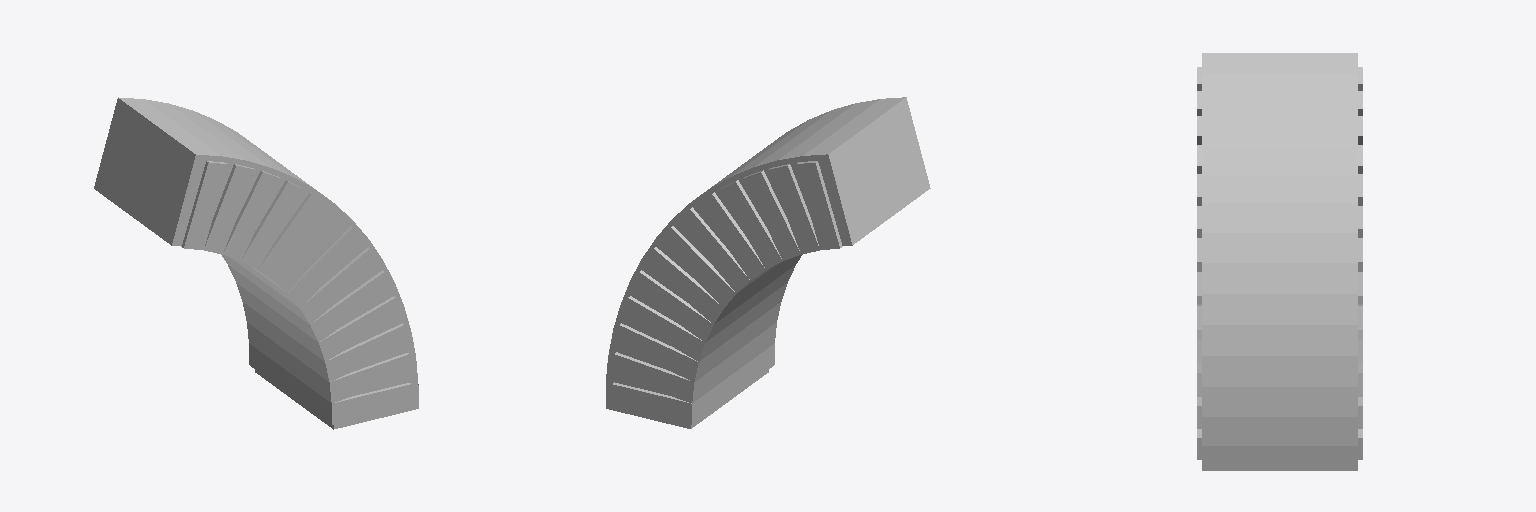
The model's file is lime_mortar_orange_clay_brick_round_arch_3.obj.
3 renders of one model, left to right at view 1: azimuth 30°, elevation 25°; view 2: azimuth 150°, elevation 25°; view 3: azimuth 270°, elevation 25°, orthographic.
Parts seen in each view (by area): view 1: cube.108, cube.081, cube.082, cube.083, cube.084, cube.085, cube.086, cube.087, cube.088, cube.093, cube.092, cube.090 (+7 smaller); view 2: cube.108, cube.081, cube.082, cube.083, cube.084, cube.085, cube.086, cube.087, cube.088, cube.093, cube.091, cube.089 (+7 smaller); view 3: cube.097, cube.098, cube.099, cube.100, cube.096, cube.101, cube.102, cube.095, cube.103, cube.104, cube.105, cube.094 (+3 smaller).
Part boxes in pixels (x1,y1,x2,y2): cube.108: (94,97,221,246); cube.081: (249,343,411,424); cube.082: (247,322,411,403); cube.083: (243,302,408,381); cube.084: (236,283,401,361); cube.085: (228,265,392,342); cube.086: (221,247,380,324); cube.087: (230,226,364,307); cube.088: (250,208,346,293); cube.093: (182,161,227,249); cube.092: (204,164,254,254); cube.090: (241,180,304,269); cube.108: (803,97,930,245); cube.081: (612,343,774,424); cube.082: (612,322,776,403); cube.083: (615,302,780,381); cube.084: (622,283,787,361); cube.085: (631,265,795,342); cube.086: (643,247,802,324); cube.087: (659,226,793,307); cube.088: (676,207,773,293); cube.093: (796,161,842,249); cube.091: (743,170,800,260); cube.089: (697,192,765,280); cube.097: (1202,356,1357,386); cube.098: (1202,325,1357,355); cube.099: (1202,294,1357,324); cube.100: (1202,263,1357,293); cube.096: (1202,387,1357,416); cube.101: (1202,233,1357,262); cube.102: (1202,203,1357,232); cube.095: (1202,417,1357,445); cube.103: (1202,175,1357,202); cube.104: (1202,147,1357,174); cube.105: (1202,121,1357,146); cube.094: (1202,446,1357,470).
Size of the model in its own units: 1.84 by 2.2 by 1.07.